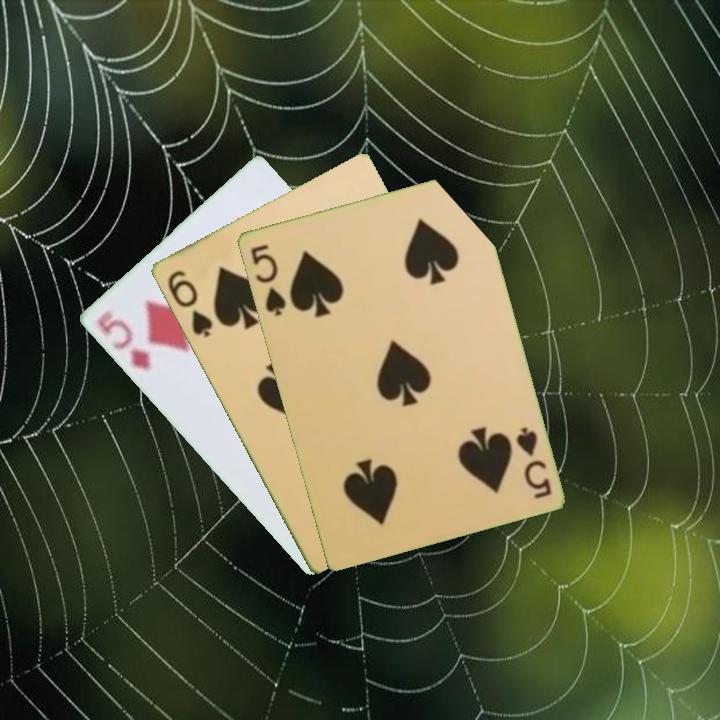5d: (92, 306, 153, 374)
5s: (246, 240, 289, 319), (511, 423, 554, 501)
6s: (163, 266, 215, 340)
